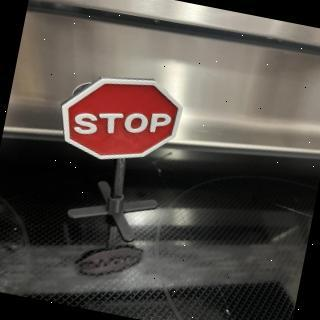sign_stop: (53, 62, 189, 174)
